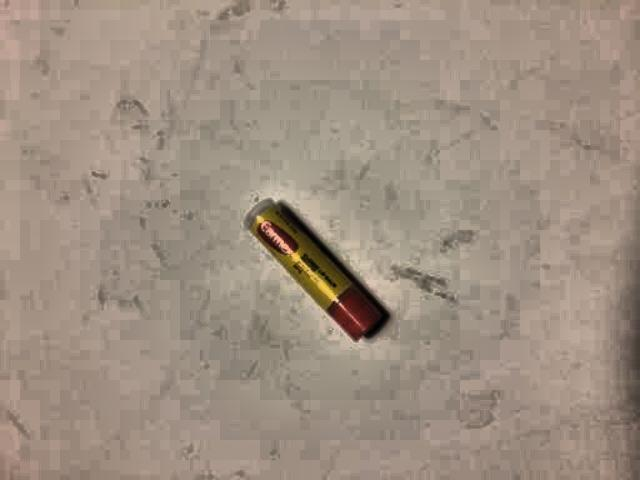Almennt: (238, 192, 409, 356)
